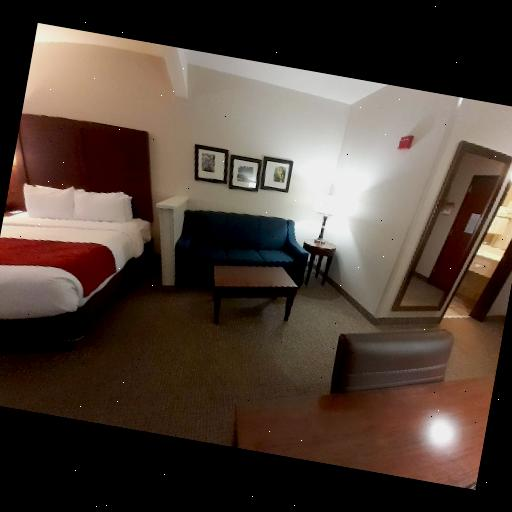clean_bed: (0, 113, 151, 351)
organized table: (235, 371, 496, 488), (198, 252, 302, 328)
